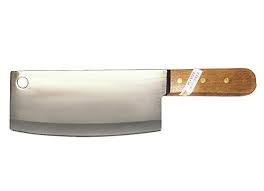knife: (8, 67, 258, 139)
